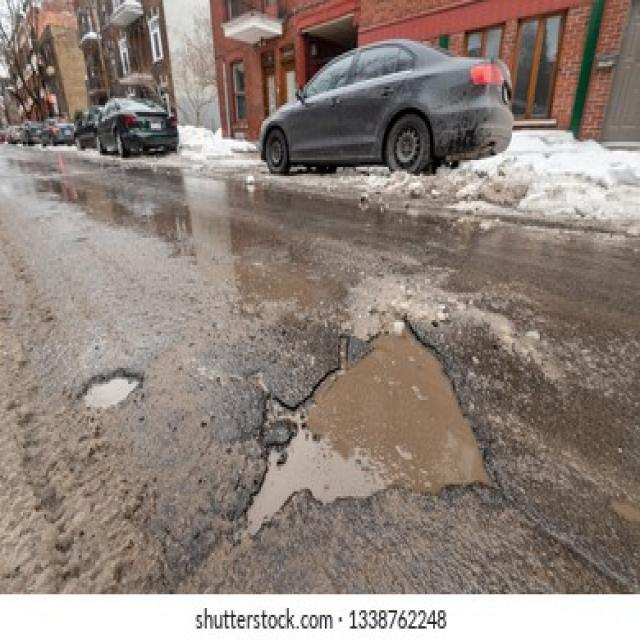Pothole: (241, 306, 501, 537), (78, 370, 144, 409)
